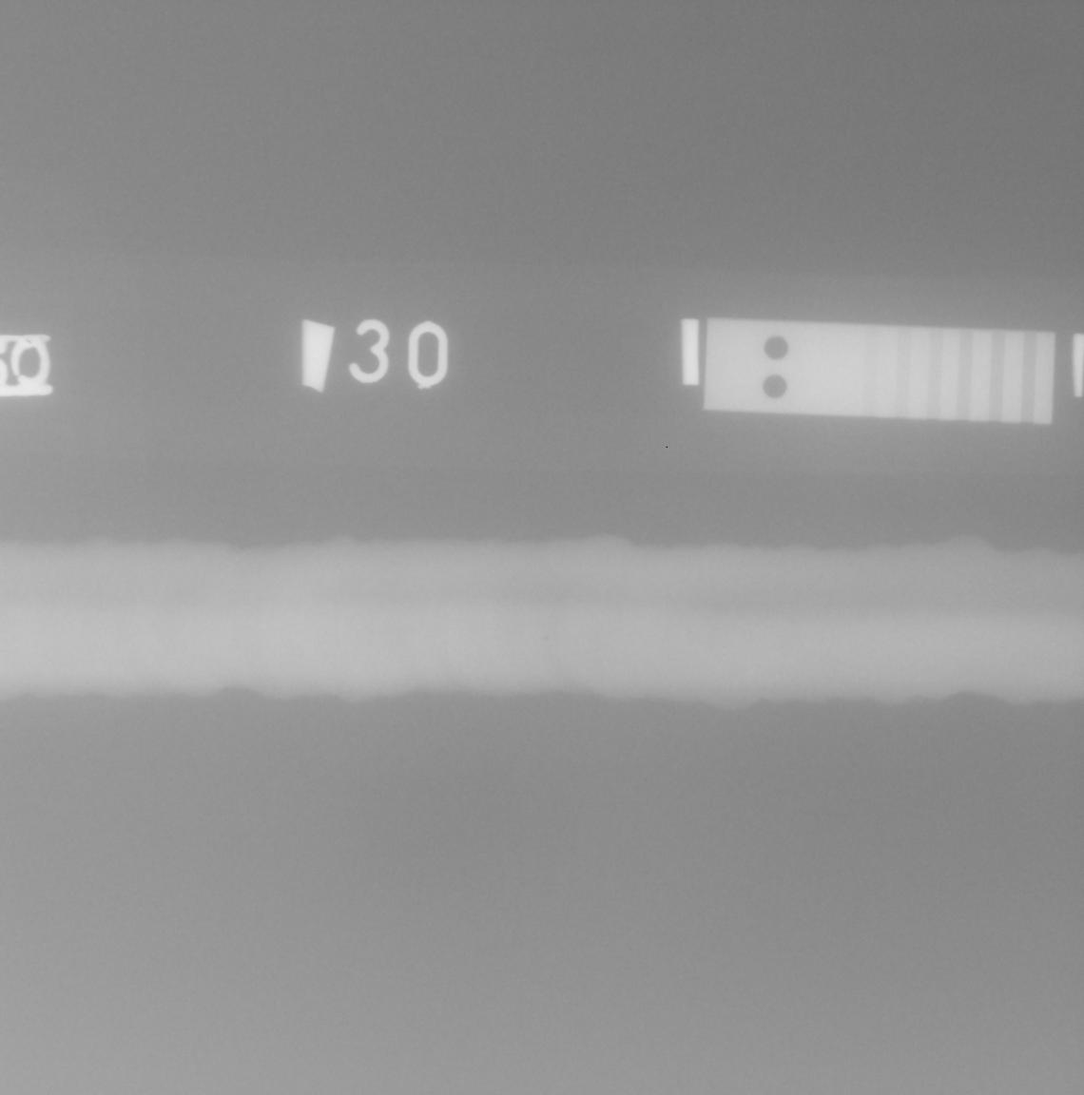Pore/Porosity: (544, 636, 547, 640)
Reference Standard 2: (703, 317, 1055, 425)
